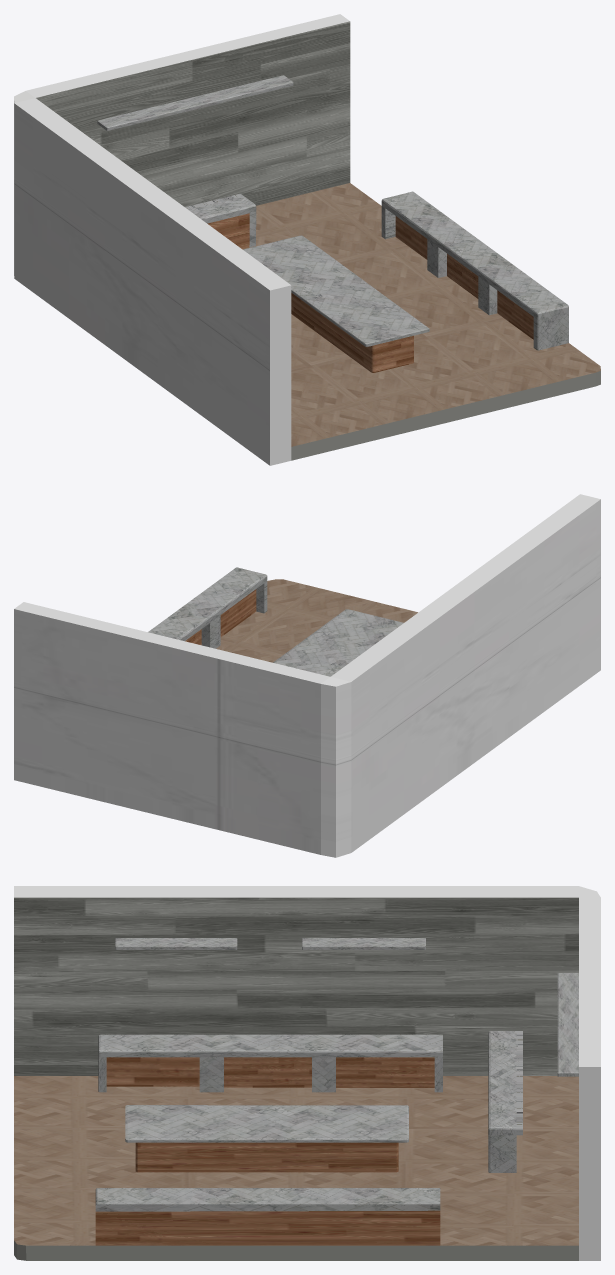
The model's file is store3d44.glb.
3 views of the same model, one above another, from view 1: azimuth 30°, elevation 25°; view 2: azimuth 150°, elevation 25°; view 3: azimuth 270°, elevation 25° (orthographic). The views are drawn at different scales.
Visible parts, largest first — view 1: Cube; view 2: Cube; view 3: Cube.
Boxes of the visible parts, x1=… form: Cube: x1=14, y1=14, x2=600, y2=465; Cube: x1=14, y1=494, x2=600, y2=857; Cube: x1=14, y1=886, x2=600, y2=1260.
Size of the model in its own units: 65.74 by 32.98 by 90.08.
5 materials, 5 textured.
